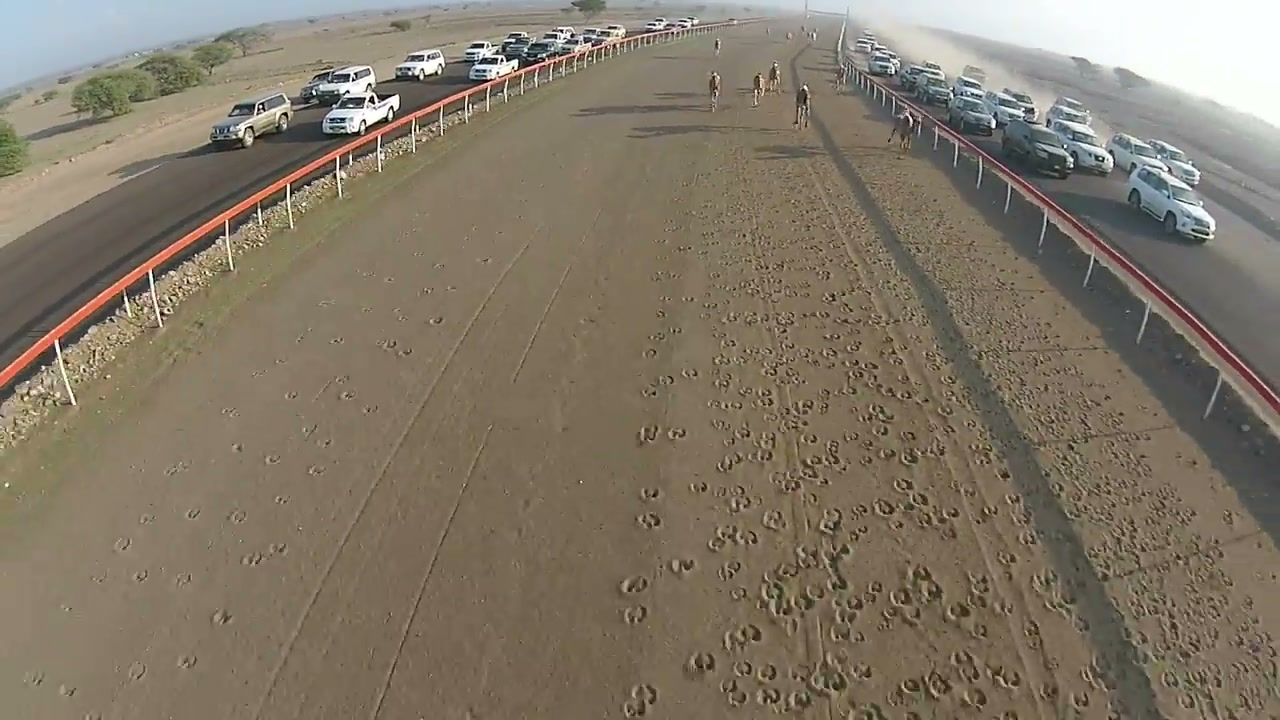animal_foot_print: (643, 167, 1048, 719), (707, 525, 759, 552), (723, 623, 764, 653), (622, 683, 658, 717), (637, 424, 687, 445), (733, 661, 777, 683), (720, 678, 750, 707), (816, 508, 844, 537), (686, 652, 717, 677), (727, 495, 761, 514), (629, 683, 658, 705), (619, 575, 649, 595), (755, 687, 783, 708), (621, 605, 649, 625), (761, 509, 786, 531), (669, 558, 696, 577), (717, 560, 741, 581), (638, 425, 660, 444), (637, 512, 661, 529), (377, 338, 403, 353), (127, 662, 147, 681), (164, 461, 189, 476), (210, 608, 232, 625), (242, 551, 265, 566), (173, 572, 193, 589), (23, 671, 45, 686), (176, 655, 197, 669), (640, 487, 661, 501), (113, 537, 132, 552), (227, 509, 246, 524), (730, 586, 748, 601), (689, 481, 709, 494), (58, 683, 76, 697), (268, 542, 287, 555), (653, 375, 675, 386), (641, 384, 658, 398), (667, 427, 686, 439), (307, 464, 325, 476), (132, 569, 148, 582), (681, 367, 698, 379), (220, 407, 238, 418), (264, 453, 281, 464), (138, 513, 154, 524), (361, 404, 378, 414), (428, 316, 445, 326), (642, 347, 657, 358), (339, 390, 356, 399), (83, 711, 102, 719), (274, 495, 289, 505), (230, 442, 243, 453), (330, 336, 344, 345), (655, 308, 666, 318), (284, 390, 297, 398), (433, 262, 444, 269)
